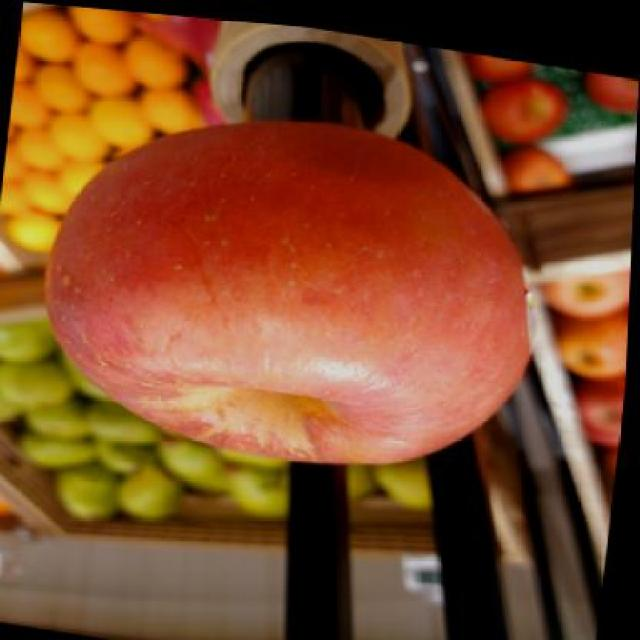Fresh Apple: (48, 122, 537, 480)
